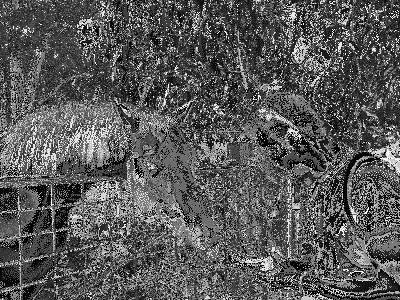person: (218, 89, 400, 300)
